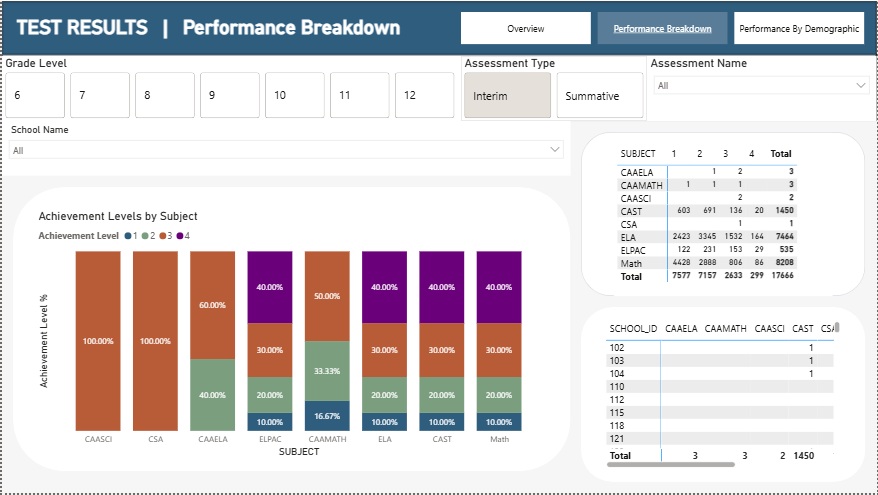

Layout of this report page (visuals, bound fields, positions):
{"tool":"powerbi","page":{"name":"Performance Breakdown","canvas":[1280,720],"ordinal":1},"visuals":[{"type":"shape","box":[0,0,1280,79.4],"z":0,"group":"g1"},{"type":"group","id":"g1","title":"Group 1","box":[0,0,1280,176],"z":0},{"type":"textbox","box":[16,0,624,80],"z":1000},{"type":"shape","box":[0,78.2,1280,97.8],"z":1000,"group":"g1"},{"type":"advancedSlicerVisual","title":"Grade Level","fields":{"Values":["FACT_TEST_EVENTS.GRADELEVELWHENASSESSED"]},"box":[0,80,672,96],"z":2000},{"type":"advancedSlicerVisual","title":"Assessment Type","fields":{"Values":["DIM_ASSESSMENTS.ASSESSMENTTYPE"]},"box":[672,80,272,96],"z":3000},{"type":"slicer","title":"Assessment Name","fields":{"Values":["DIM_ASSESSMENTS.ASSESSMENTNAME"]},"box":[944,80,336,96],"z":4000},{"type":"shape","box":[848,192,416,240],"z":5000},{"type":"shape","box":[848,448,416,256],"z":6000},{"type":"shape","box":[16,272,816,416],"z":7000},{"type":"pivotTable","fields":{"Columns":["FACT_TEST_EVENTS.SCALESCOREACHIEVEMENTLEVEL"],"Rows":["DIM_ASSESSMENTS.SUBJECT"],"Values":["CountNonNull(FACT_TEST_EVENTS.SCALESCOREACHIEVEMENTLEVEL)"]},"box":[896,208,320,224],"z":8000},{"type":"slicer","fields":{"Values":["DIM_SCHOOLS.SCHOOL_NAME","DIM_SCHOOLS.SCHOOL_NAME"]},"box":[0,176,832,80],"z":9000},{"type":"pivotTable","fields":{"Columns":["DIM_ASSESSMENTS.SUBJECT"],"Rows":["DIM_SCHOOLS.SCHOOL_ID"],"Values":["CountNonNull(FACT_TEST_EVENTS.SCALESCOREACHIEVEMENTLEVEL)"]},"box":[880,464,352,224],"z":10000},{"type":"hundredPercentStackedColumnChart","title":"Achievement Levels by Subject","fields":{"Category":["DIM_ASSESSMENTS.SUBJECT"],"Series":["FACT_TEST_EVENTS.SCALESCOREACHIEVEMENTLEVEL"],"Y":["Avg(FACT_TEST_EVENTS.SCALESCOREACHIEVEMENTLEVEL)"]},"box":[48,304,752,368],"z":11000},{"type":"pageNavigator","box":[672,16,592,48],"z":12000}]}

Visuals, with their boxes in screenshot pixels (x1, y1, x2, y2), scaled from the page's 1280x720 canvas onto the 878x495 screenshot:
shape: 0:0:877:55
"Group 1" group: 0:0:877:121
textbox: 11:0:439:55
shape: 0:54:877:121
"Grade Level" advancedSlicerVisual: 0:55:461:121
"Assessment Type" advancedSlicerVisual: 461:55:648:121
"Assessment Name" slicer: 648:55:877:121
shape: 582:132:867:297
shape: 582:308:867:484
shape: 11:187:571:473
pivotTable - FACT_TEST_EVENTS.SCALESCOREACHIEVEMENTLEVEL x DIM_ASSESSMENTS.SUBJECT: 615:143:834:297
slicer - DIM_SCHOOLS.SCHOOL_NAME x DIM_SCHOOLS.SCHOOL_NAME: 0:121:571:176
pivotTable - DIM_ASSESSMENTS.SUBJECT x DIM_SCHOOLS.SCHOOL_ID: 604:319:845:473
"Achievement Levels by Subject" hundredPercentStackedColumnChart: 33:209:549:462
pageNavigator: 461:11:867:44
